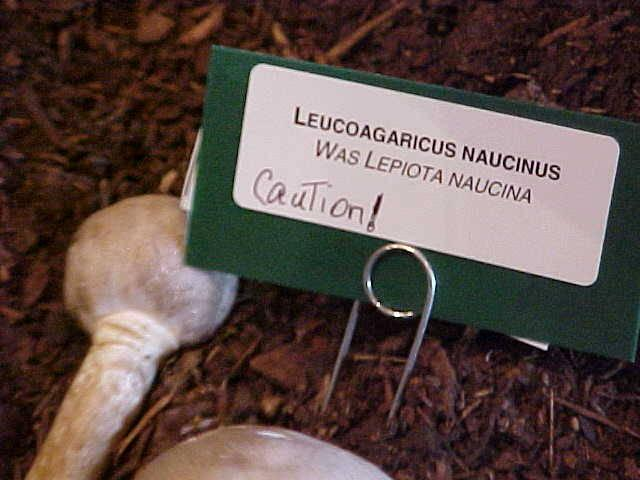Non-edible Mushroom: (23, 191, 239, 478)
